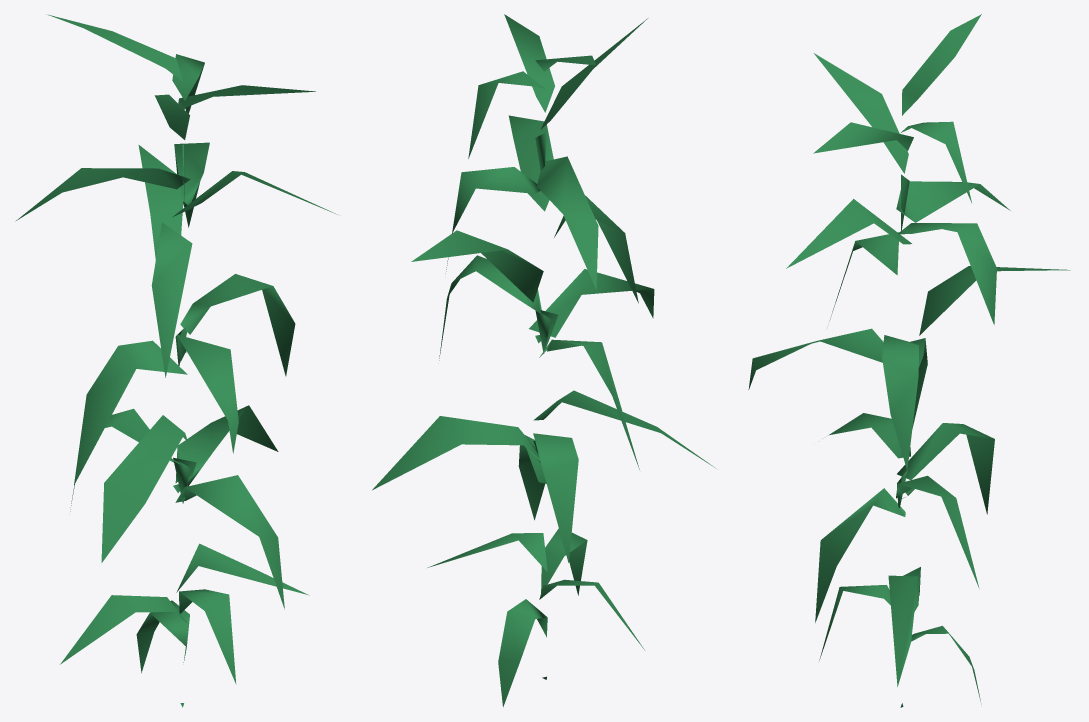
File: cornLOD5.gltf
The picture shows the model from 3 angles, left to right: view 1: azimuth 30°, elevation 25°; view 2: azimuth 150°, elevation 25°; view 3: azimuth 270°, elevation 25°; orthographic projection. The views are drawn at different scales.
Parts seen in each view (by area): view 1: LeavesLOD5; view 2: LeavesLOD5; view 3: LeavesLOD5.
Boxes of the visible parts, <box> form: LeavesLOD5: <box>15,14,337,707</box>; LeavesLOD5: <box>372,14,715,707</box>; LeavesLOD5: <box>748,14,1070,707</box>.
Size of the model in its own units: 118 by 288 by 131.
